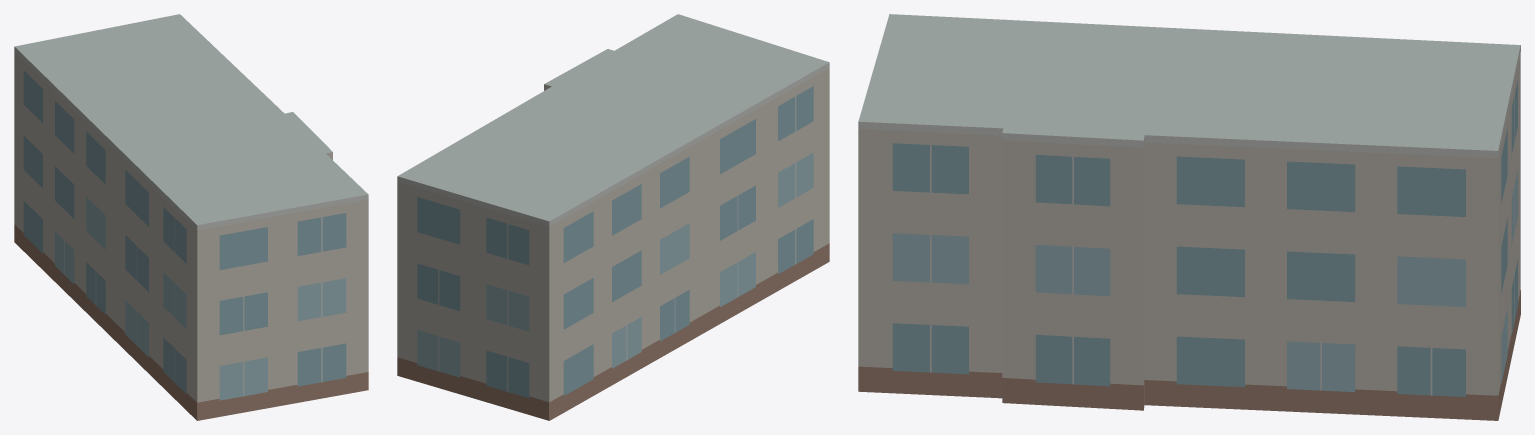
File: survey-upis-32566105.glb
The picture shows the model from 3 angles, left to right: view 1: azimuth 30°, elevation 25°; view 2: azimuth 150°, elevation 25°; view 3: azimuth 270°, elevation 25°; orthographic projection. The views are drawn at different scales.
Visible parts, largest first — view 1: survey-upis-32566105.tmp; view 2: survey-upis-32566105.tmp; view 3: survey-upis-32566105.tmp.
Part boxes in pixels (box(x1,y1,x2,y2)): survey-upis-32566105.tmp: box(14, 14, 368, 420); survey-upis-32566105.tmp: box(397, 14, 829, 420); survey-upis-32566105.tmp: box(858, 14, 1520, 420).
Size of the model in its own units: 9.97 by 9.15 by 20.36.
